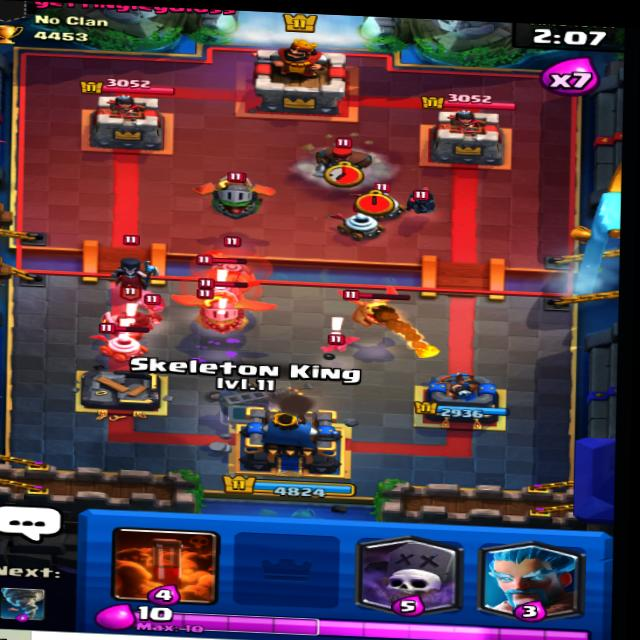baby-dragon: (327, 279, 426, 331)
bats: (324, 325, 359, 356), (131, 294, 175, 316)
dark-prince: (100, 281, 160, 341)
flying-machine: (192, 233, 269, 296)
hunter: (306, 125, 375, 179)
inferno-dragon: (211, 160, 277, 219), (175, 257, 250, 305)
mini-pekka: (389, 180, 450, 224)
night-witch: (109, 240, 153, 301)
zappie: (90, 313, 158, 358), (326, 201, 384, 240), (364, 177, 402, 221)
